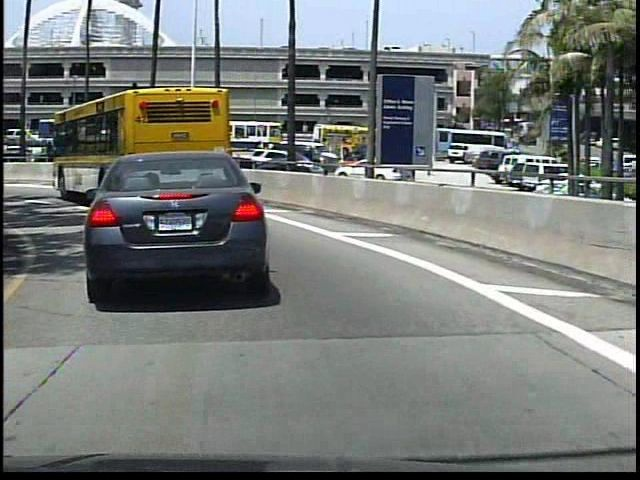person: (302, 145, 316, 177)
